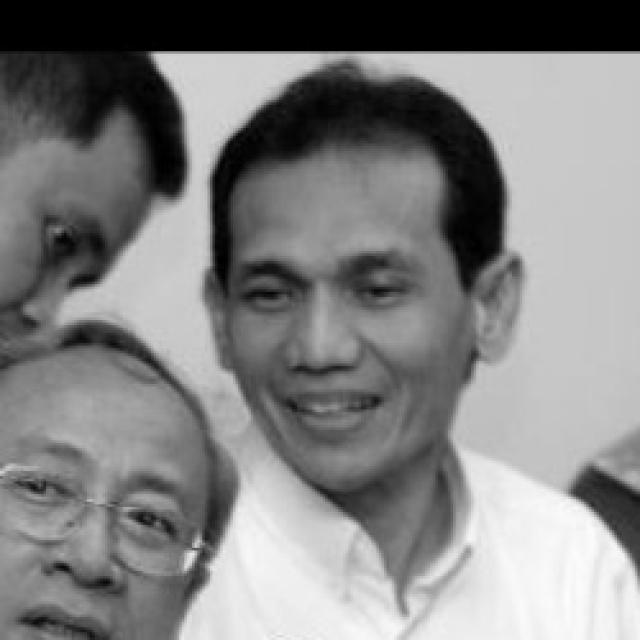real: (226, 152, 470, 487), (5, 330, 215, 640), (1, 469, 191, 555), (246, 265, 425, 312), (39, 210, 94, 267)
